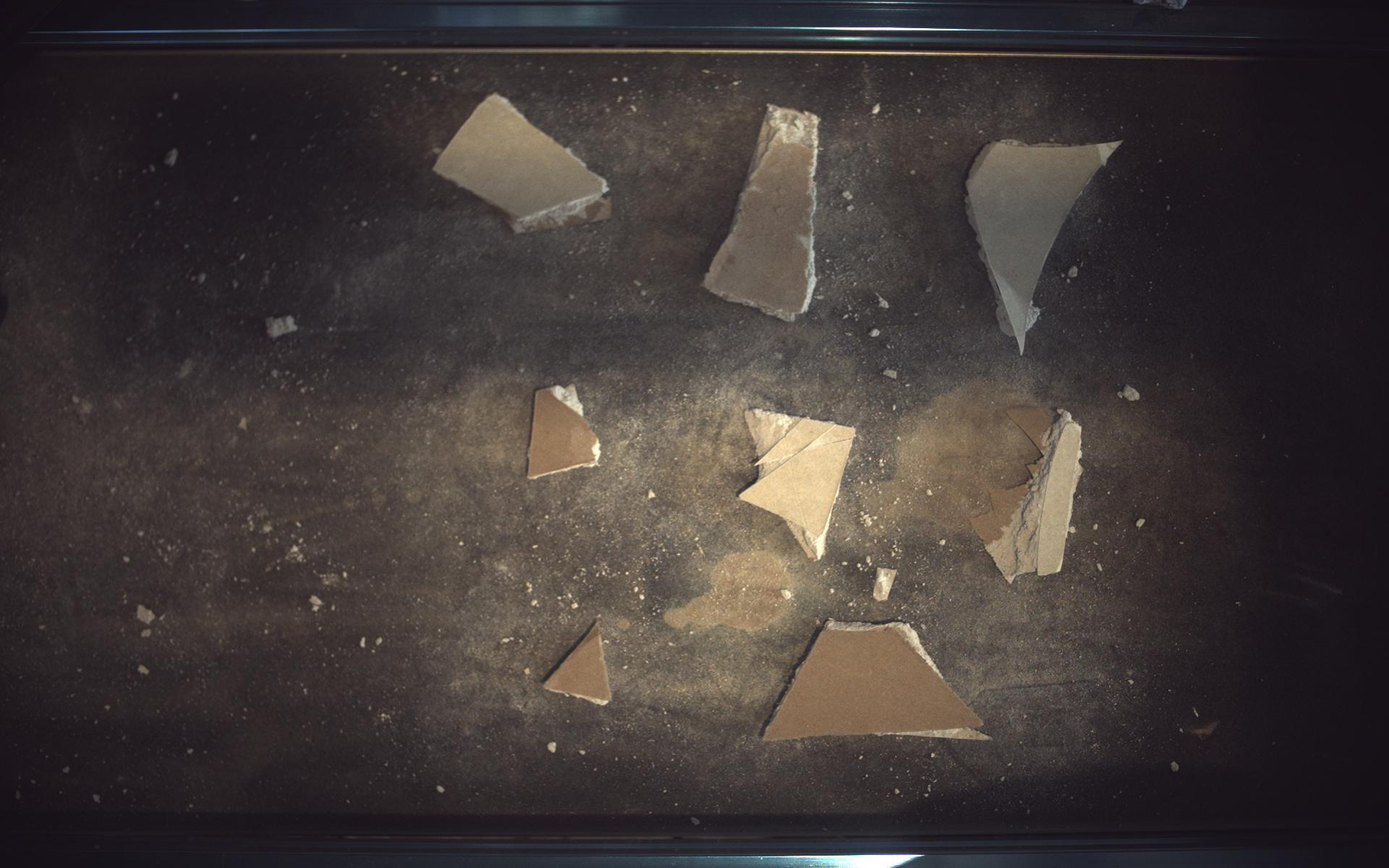gypsum_board: (968, 139, 1123, 354), (765, 621, 989, 742), (704, 103, 820, 321), (433, 93, 611, 232), (973, 407, 1085, 584), (741, 409, 857, 561), (527, 384, 600, 479), (544, 621, 612, 706)
